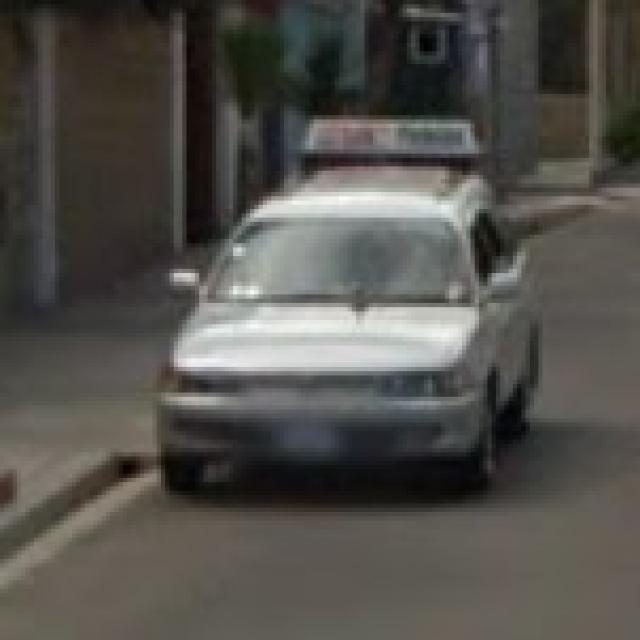Car: (168, 140, 542, 479)
